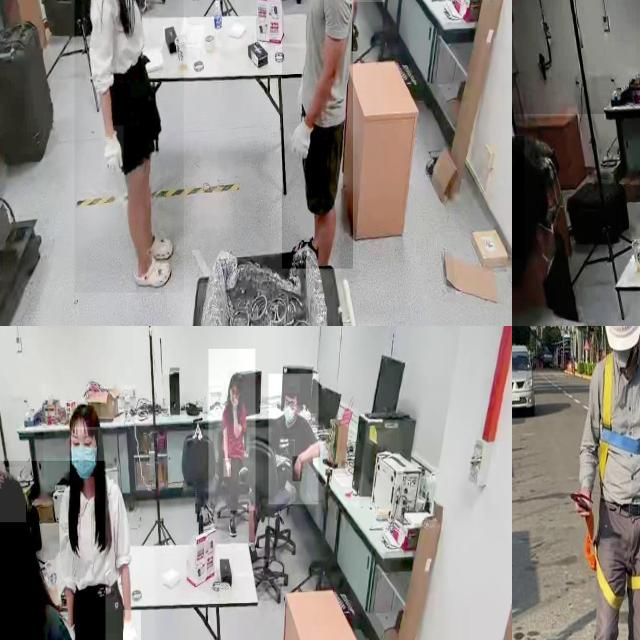Harness: (572, 493, 640, 611), (599, 354, 640, 484)
face_mask: (73, 429, 98, 476), (284, 398, 298, 428)
face_nomask: (230, 386, 238, 402)
hand_glove: (290, 114, 316, 161), (102, 125, 124, 173), (122, 610, 141, 640)
hand_noglove: (292, 456, 302, 482), (224, 458, 232, 478), (232, 396, 238, 408)
head_nohelmet: (512, 136, 525, 259), (0, 467, 26, 523), (67, 402, 101, 428), (281, 376, 301, 394), (228, 371, 244, 383)
person: (74, 0, 183, 293), (512, 114, 640, 326), (43, 399, 154, 640), (282, 0, 353, 269), (0, 460, 106, 640), (208, 349, 256, 511), (269, 374, 319, 505)
shoes: (226, 515, 238, 538)
